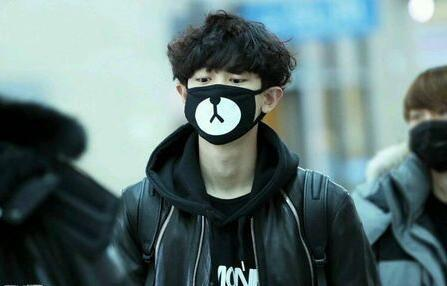OK: (183, 63, 259, 139), (407, 104, 447, 174)
